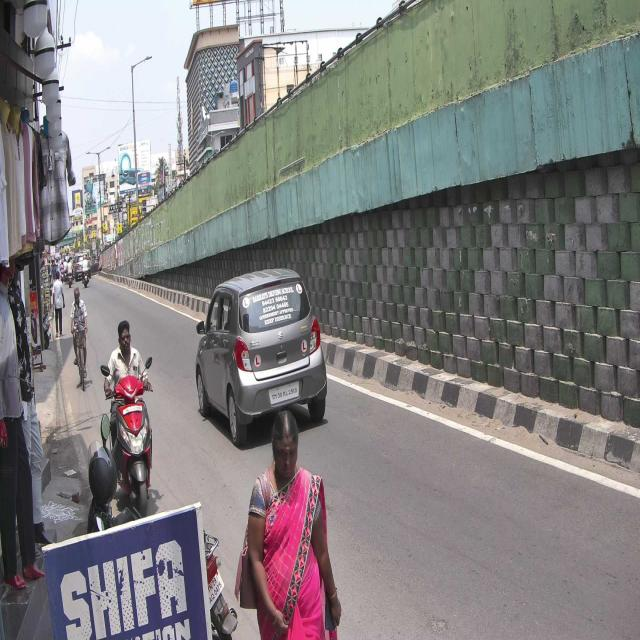single_rider: (101, 318, 159, 523)
